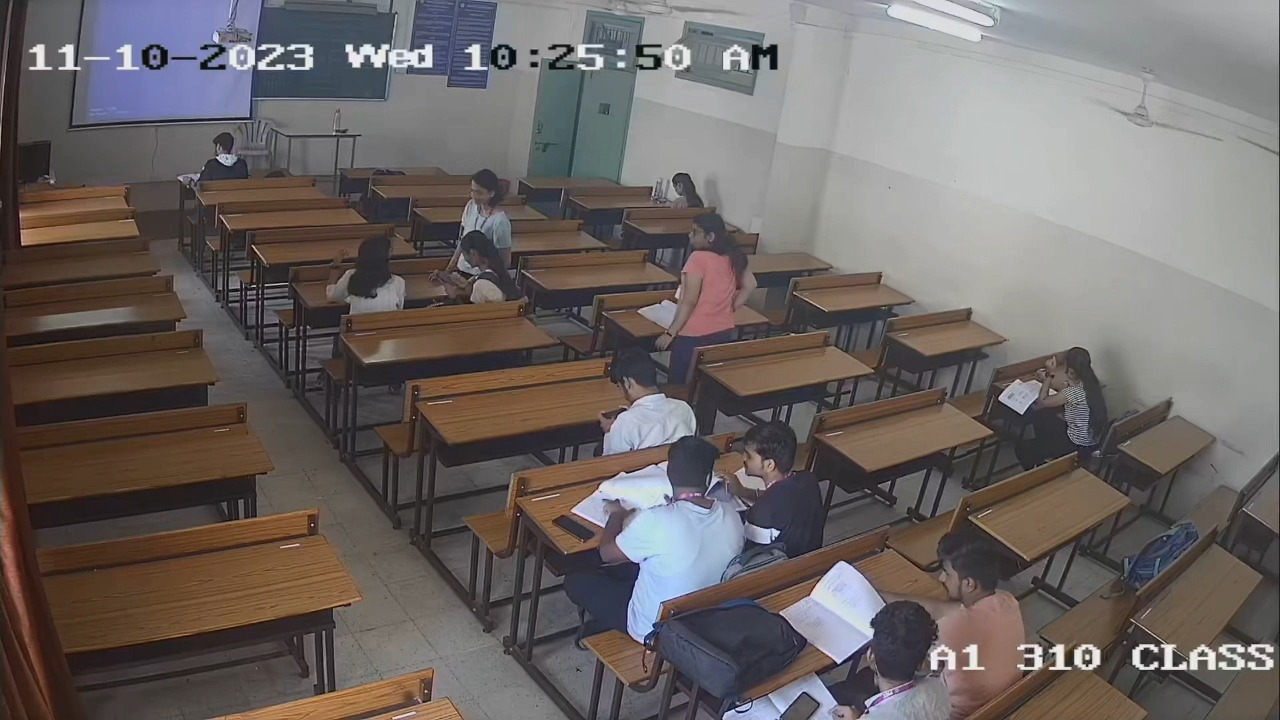cell-phones: (551, 513, 596, 543), (778, 690, 821, 720)
person: (610, 434, 748, 613), (827, 599, 956, 720)
